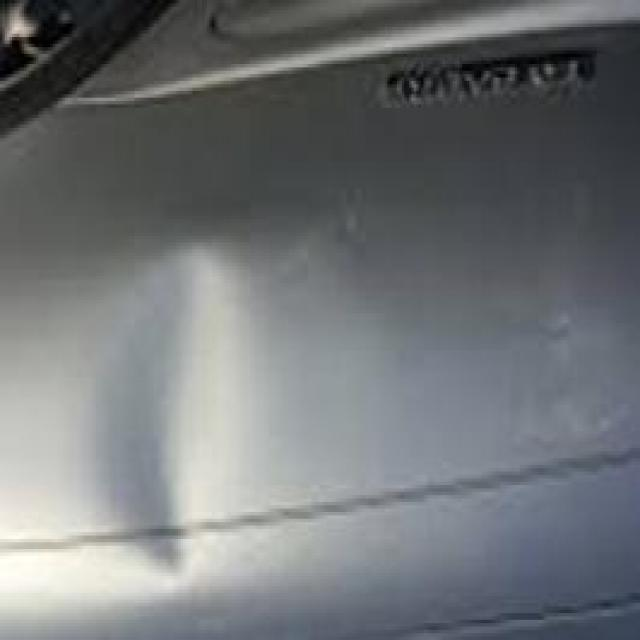dent: (72, 232, 260, 570)
